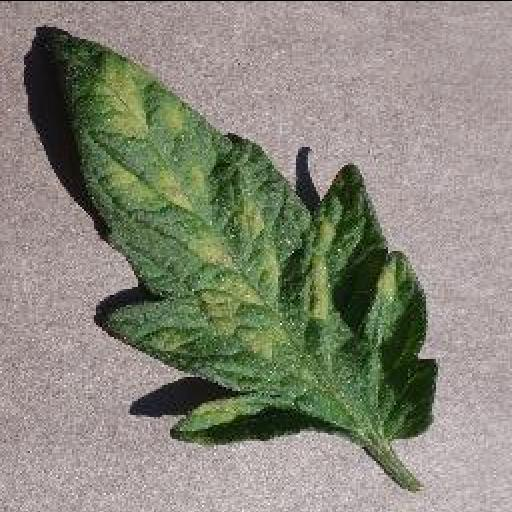disease_tomato: (46, 28, 440, 442)
